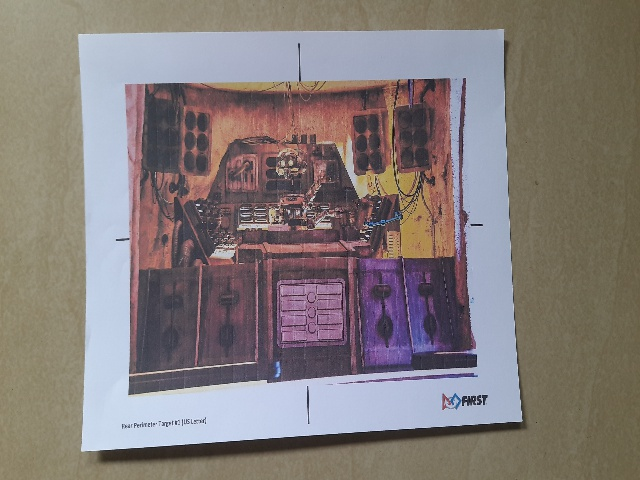rept1: (105, 59, 509, 436)
